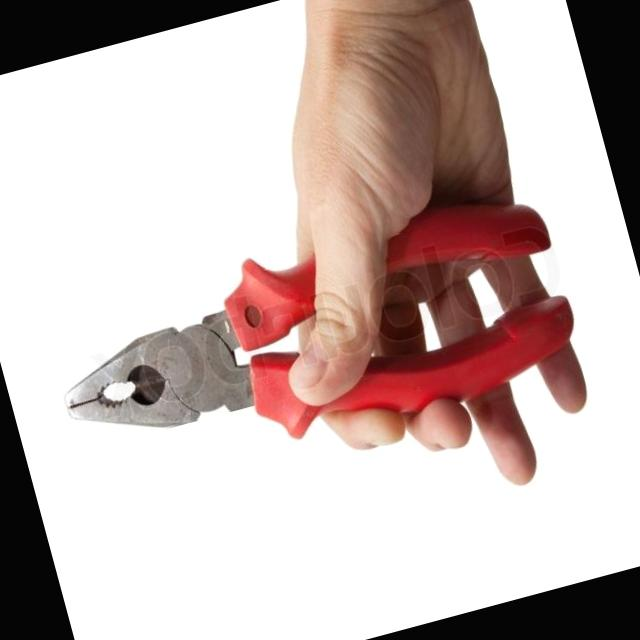pliers: (65, 259, 573, 438), (388, 205, 549, 275)
